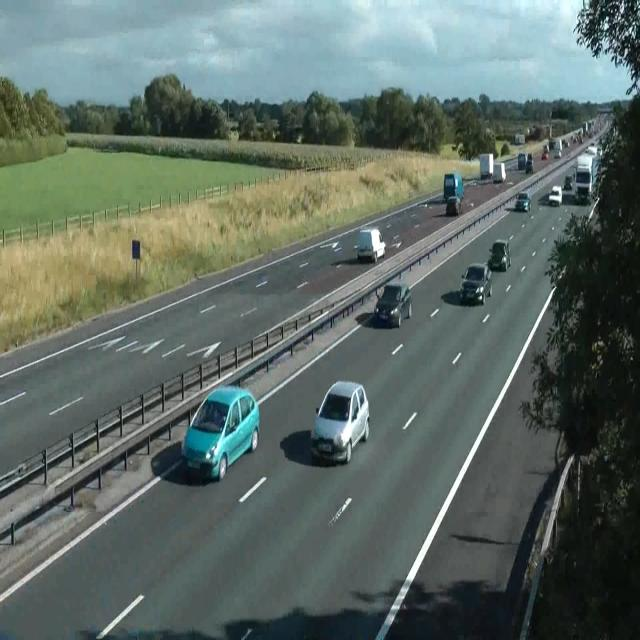bus: (374, 281, 412, 328), (459, 262, 492, 305), (352, 228, 386, 262), (488, 239, 510, 271), (515, 191, 531, 212), (548, 185, 562, 206), (446, 196, 460, 215), (585, 145, 603, 155), (564, 174, 572, 190), (525, 160, 533, 173), (553, 148, 561, 158), (541, 151, 548, 160)
jeep: (180, 384, 260, 482), (310, 379, 370, 465)
minibus: (572, 150, 602, 203), (479, 153, 506, 183), (443, 172, 463, 202), (479, 153, 493, 179), (518, 152, 533, 172), (492, 162, 506, 183), (514, 133, 524, 144)
